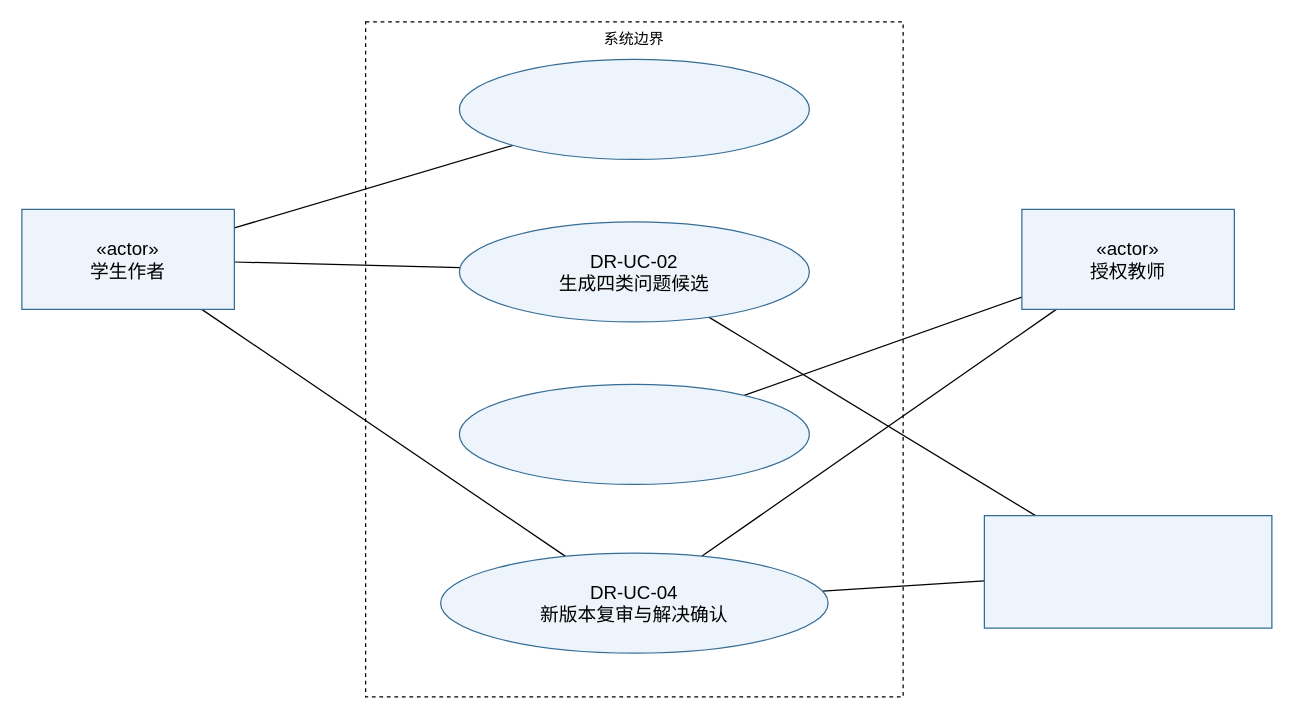
Some shapes in this 1294 by 719 pixel diagram are drawn without their labels. Each missing label, with the centre of its shape:
DR-UC-01 上传及原文定位: point 633,108
DR-UC-03 教师逐条复核: point 633,433
«actor» 模型服务（原型模拟）: point 1127,571
